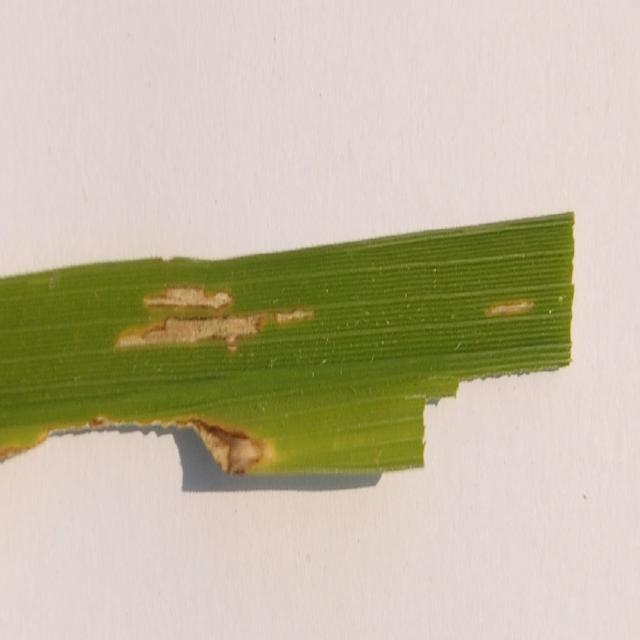bacterial_leaf_blight: (114, 285, 314, 352), (191, 419, 267, 473), (485, 300, 534, 317)
